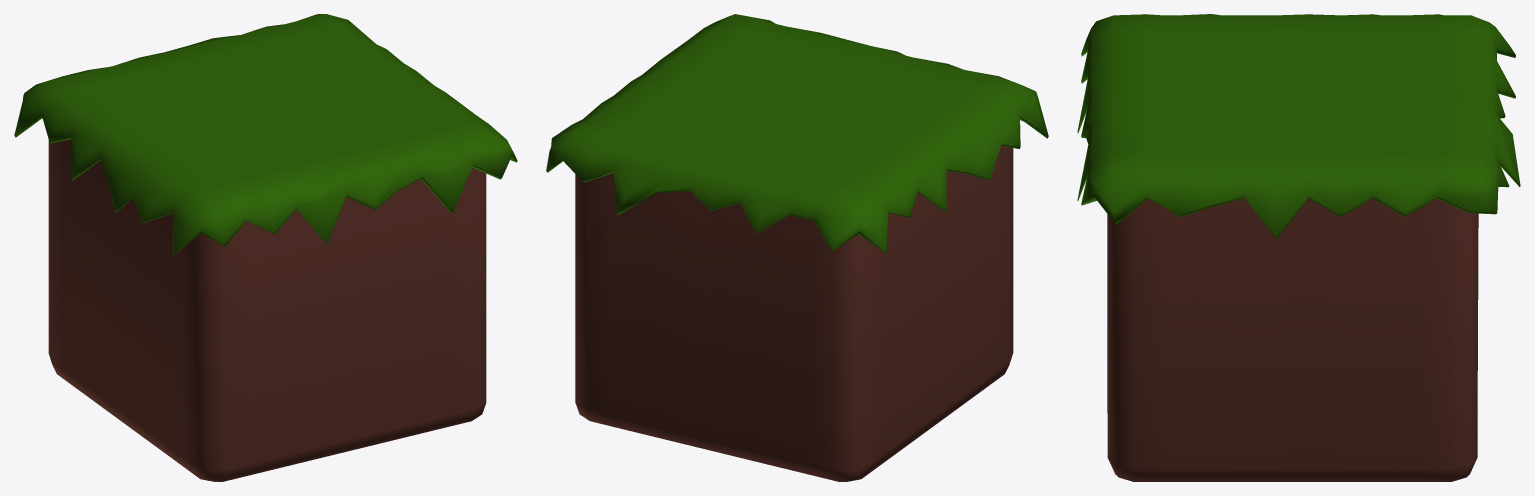
Rendered from Bloque de cesped.fbx.
3 views of the same model, side by side, from view 1: azimuth 30°, elevation 25°; view 2: azimuth 150°, elevation 25°; view 3: azimuth 270°, elevation 25° (orthographic). The views are drawn at different scales.
Parts seen in each view (by area): view 1: Cesped-M; view 2: Cesped-M; view 3: Cesped-M.
Boxes of the visible parts, box(x1,y1,x2,y2) form: Cesped-M: box(14, 14, 517, 481); Cesped-M: box(546, 14, 1048, 481); Cesped-M: box(1077, 14, 1520, 481).
Size of the model in its own units: 282 by 222 by 275.
